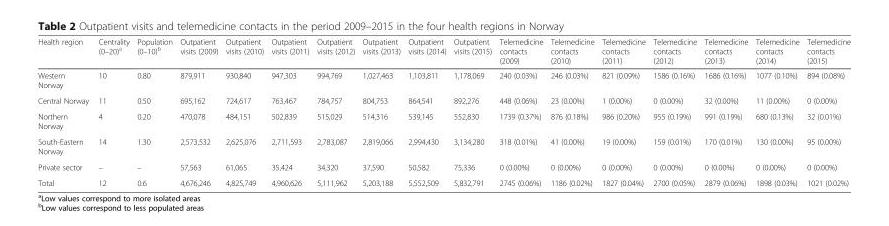table: (38, 36, 851, 187)
table column: (38, 36, 93, 187), (495, 36, 547, 187), (700, 36, 752, 187), (547, 36, 598, 187), (598, 36, 649, 187), (649, 36, 700, 187), (752, 36, 803, 187), (803, 36, 851, 187), (176, 36, 222, 187), (267, 36, 313, 187), (313, 36, 359, 187), (404, 36, 450, 187), (222, 36, 267, 187), (359, 36, 404, 187), (450, 36, 495, 187), (133, 36, 176, 187), (93, 36, 133, 187)
table column header: (38, 36, 851, 67)
table row: (38, 36, 851, 67), (38, 67, 851, 92), (38, 108, 851, 133), (38, 133, 851, 158), (38, 92, 851, 108), (38, 158, 851, 174), (38, 174, 851, 187)
